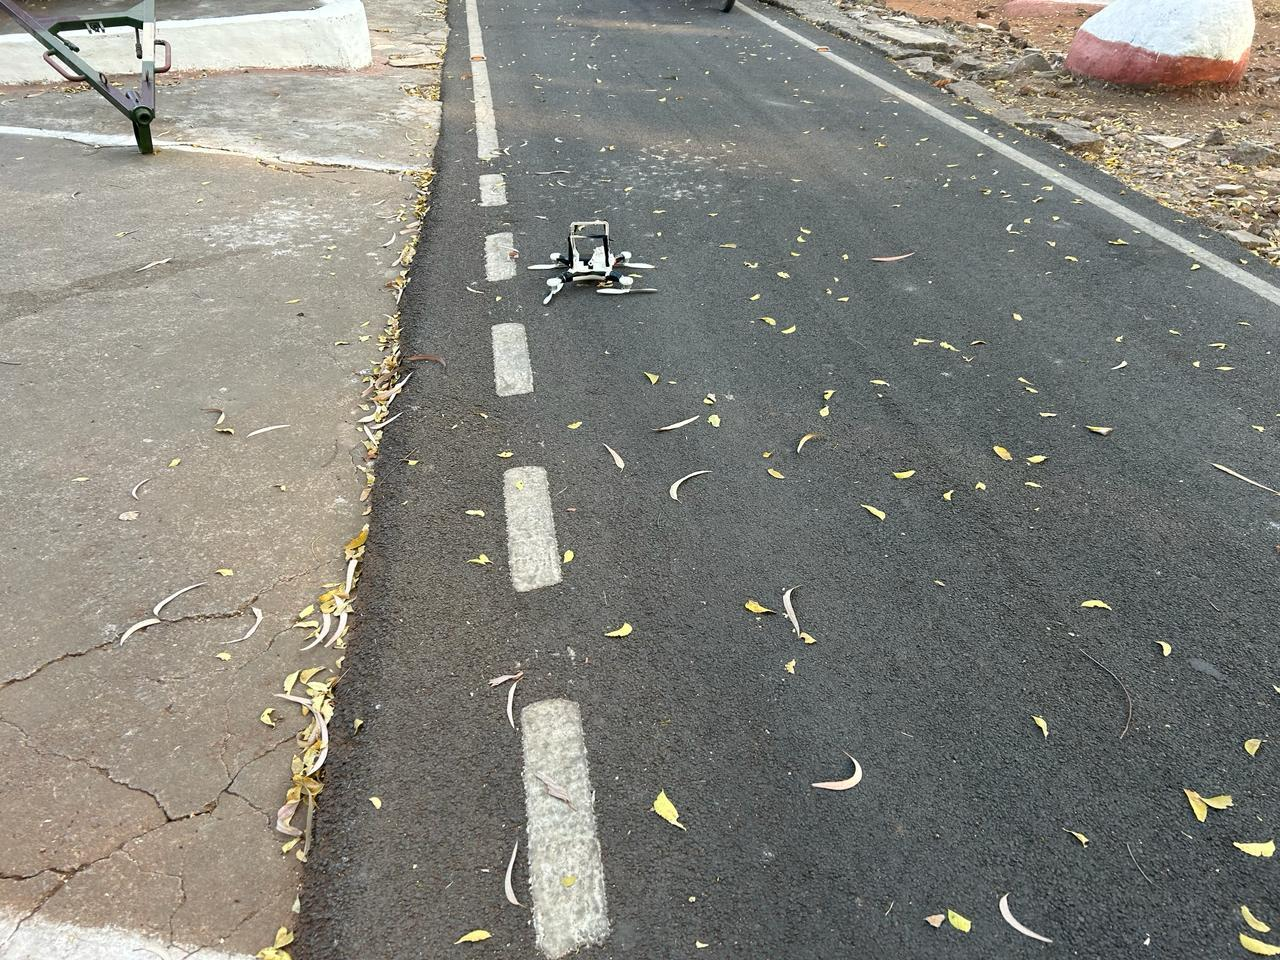drone: (497, 156, 689, 366)
